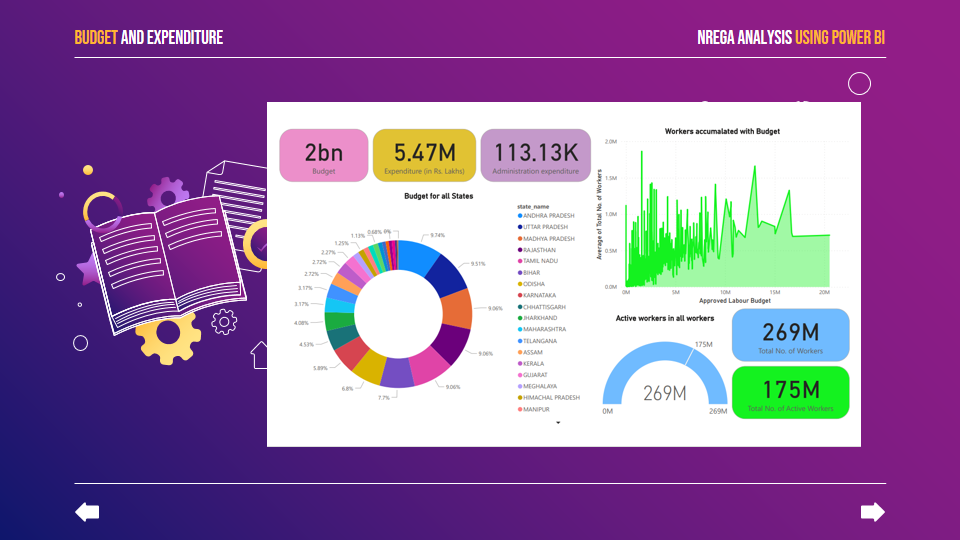

Layout of this report page (visuals, bound fields, positions):
{"tool":"powerbi","page":{"name":"Budget","canvas":[1280,720],"ordinal":2},"visuals":[{"type":"cardVisual","fields":{"Data":["Sum(NREGA.Total No. of Workers)"]},"box":[1008,432,272,128],"z":0},{"type":"cardVisual","fields":{"Data":["Sum(NREGA.Approved Labour Budget)"]},"box":[0,32,208,128],"z":1000},{"type":"donutChart","title":"Budget for all States","fields":{"Category":["NREGA.state_name"],"Y":["Sum(NREGA.Approved Labour Budget)"]},"box":[0,176,720,528],"z":2000},{"type":"cardVisual","fields":{"Data":["Sum(NREGA.Total Exp(Rs. in Lakhs.))"]},"box":[208,32,240,128],"z":3000},{"type":"cardVisual","fields":{"Data":["Sum(NREGA.Total Adm Expenditure (Rs. in Lakhs.))"]},"box":[448,32,256,128],"z":4000},{"type":"areaChart","title":"Workers accumalated with Budget","fields":{"Y":["Avg(NREGA.Total No. of Workers)"],"Category":["NREGA.Approved Labour Budget"]},"box":[704,32,576,400],"z":5000},{"type":"gauge","title":"Active workers in  all workers","fields":{"Y":["Sum(NREGA.Total No. of Workers)"],"TargetValue":["Sum(NREGA.Total No. of Active Workers)"],"MaxValue":["Sum(NREGA.Total No. of Workers)"]},"box":[720,448,288,272],"z":6000},{"type":"cardVisual","fields":{"Data":["Sum(NREGA.Total No. of Active Workers)"]},"box":[1008,560,272,128],"z":7000}]}

Visuals, with their boxes in screenshot pixels (x1, y1, x2, y2), scaled from the page's 1280x720 canvas onto the 960x540 screenshot:
cardVisual - Sum(NREGA.Total No. of Workers): BBox(756, 324, 959, 420)
cardVisual - Sum(NREGA.Approved Labour Budget): BBox(0, 24, 156, 120)
"Budget for all States" donutChart: BBox(0, 132, 540, 528)
cardVisual - Sum(NREGA.Total Exp(Rs. in Lakhs.)): BBox(156, 24, 336, 120)
cardVisual - Sum(NREGA.Total Adm Expenditure (Rs. in Lakhs.)): BBox(336, 24, 528, 120)
"Workers accumalated with Budget" areaChart: BBox(528, 24, 959, 324)
"Active workers in  all workers" gauge: BBox(540, 336, 756, 539)
cardVisual - Sum(NREGA.Total No. of Active Workers): BBox(756, 420, 959, 516)
